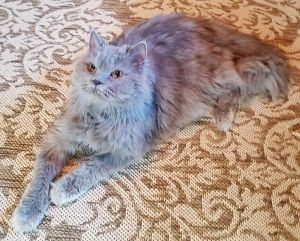persian: (70, 26, 158, 112)
